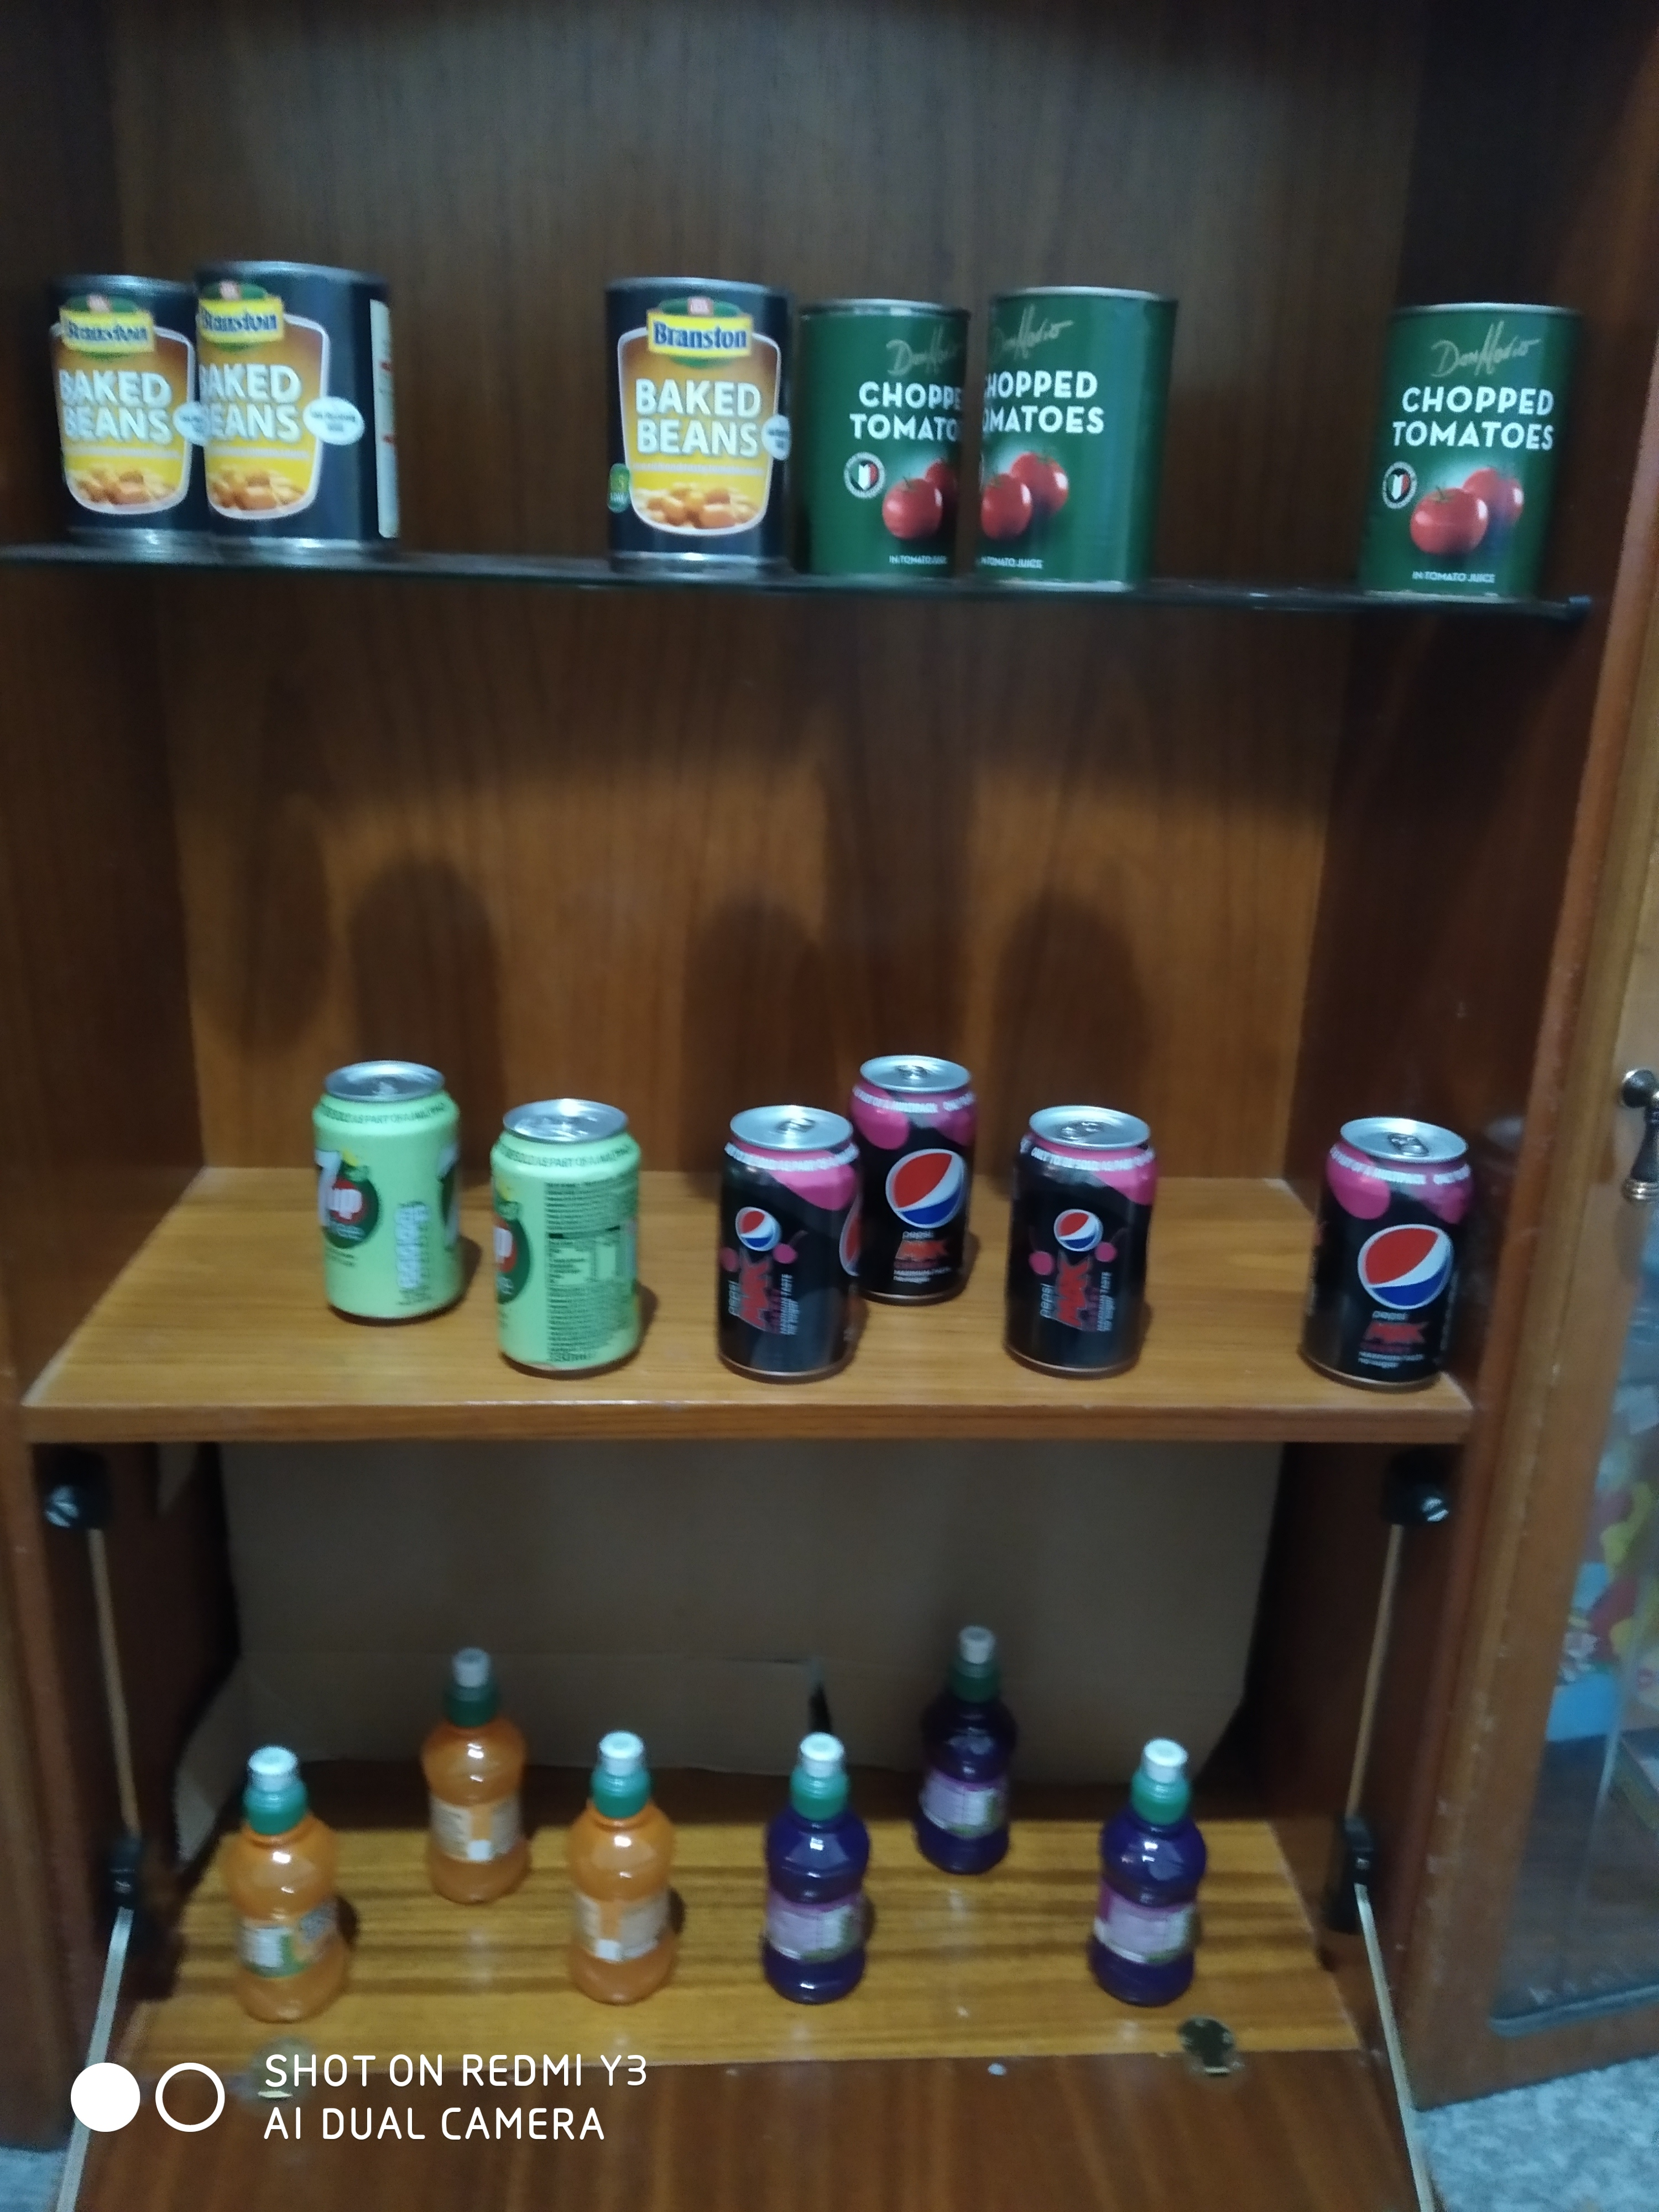beans: (45, 260, 190, 531)
